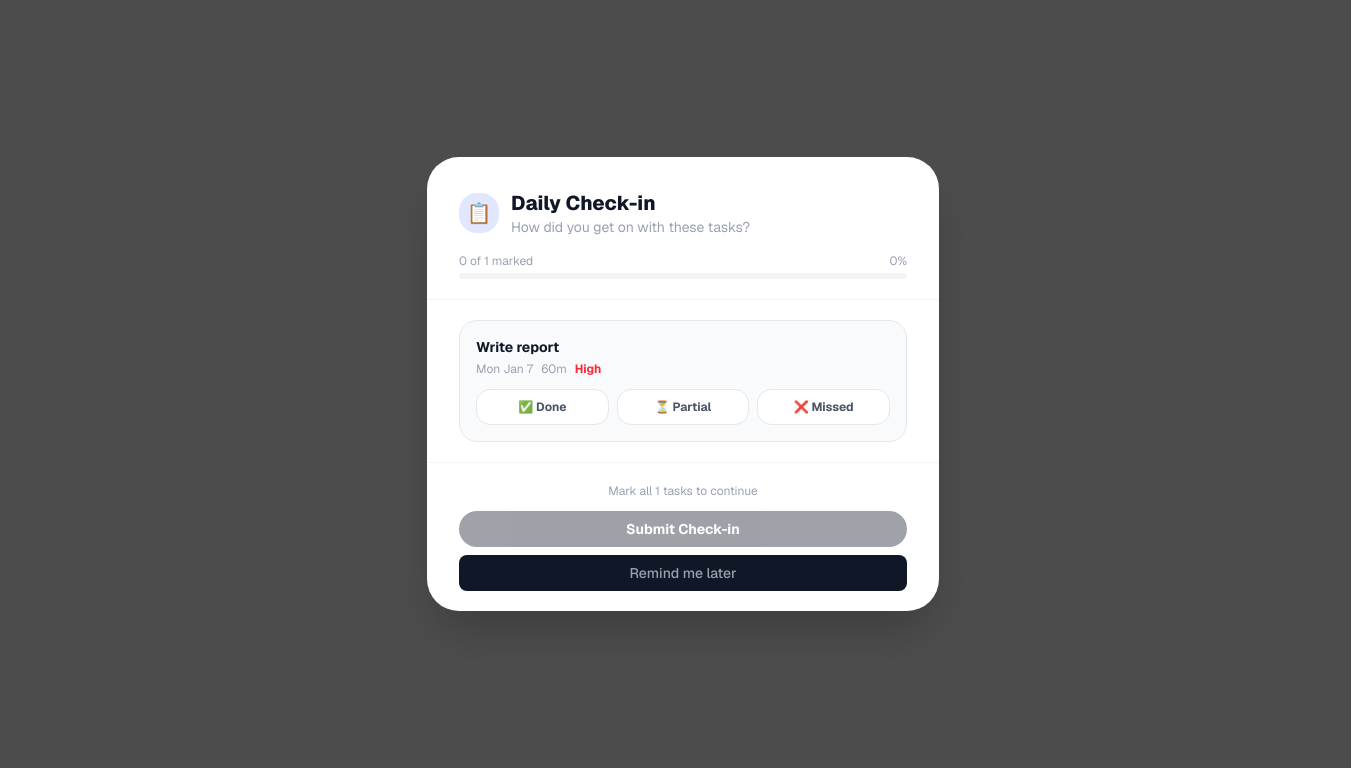
it: CheckInModal — partial progress slider › updates remaining minutes when slider changes
The width and height of the screenshot is (1366, 768).
Click the button "⏳ Partial" at (683, 407), box [617,389,749,425]
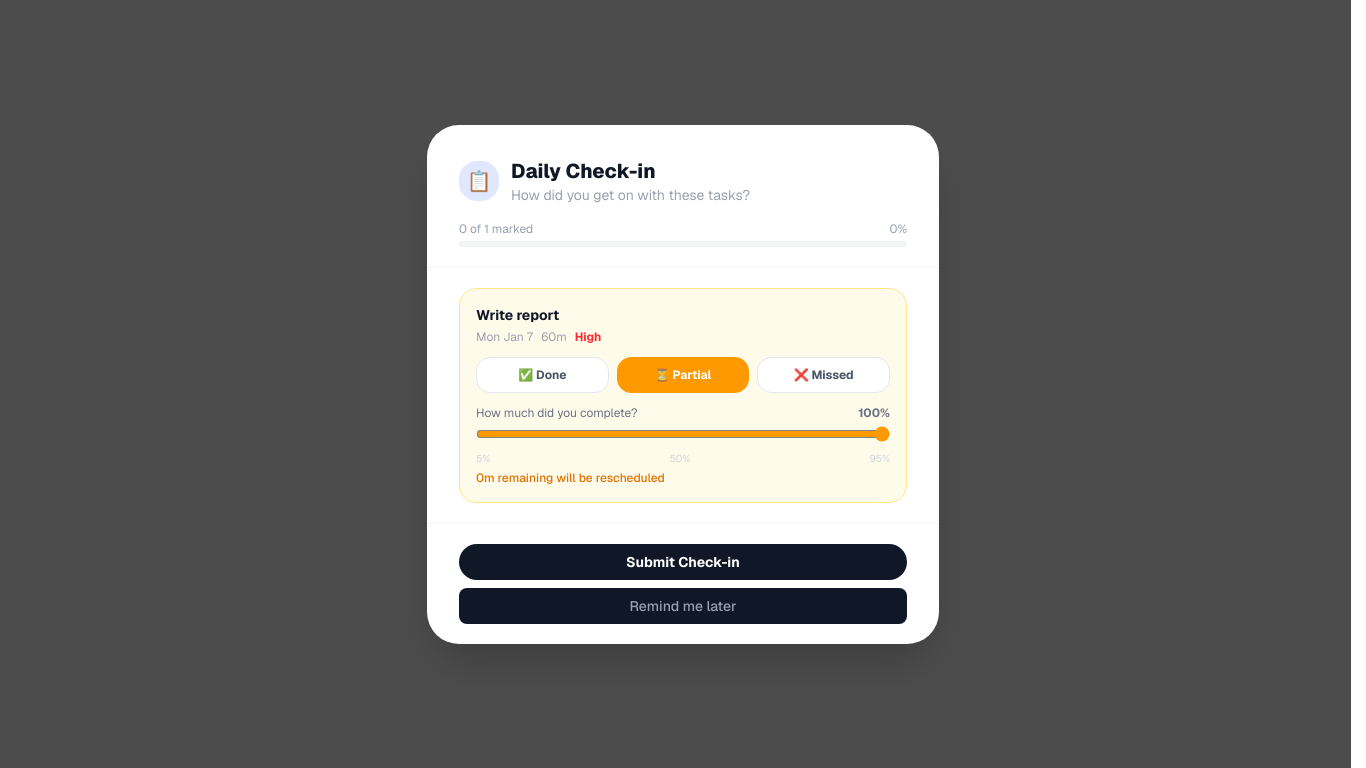
Set the slider to "50" at (683, 434), box [476,426,890,442]
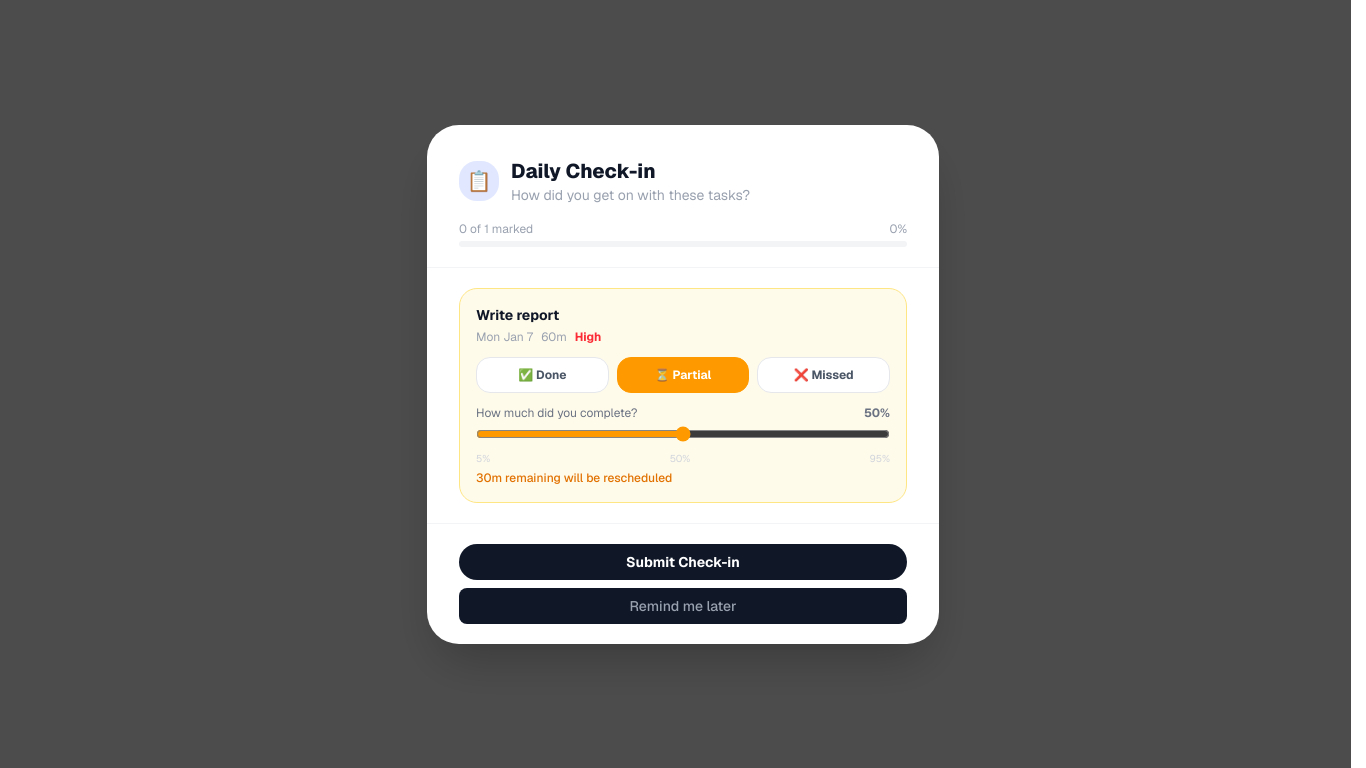
Check: the text "30m remaining will be rescheduled" is shown, box [476,470,672,486]
